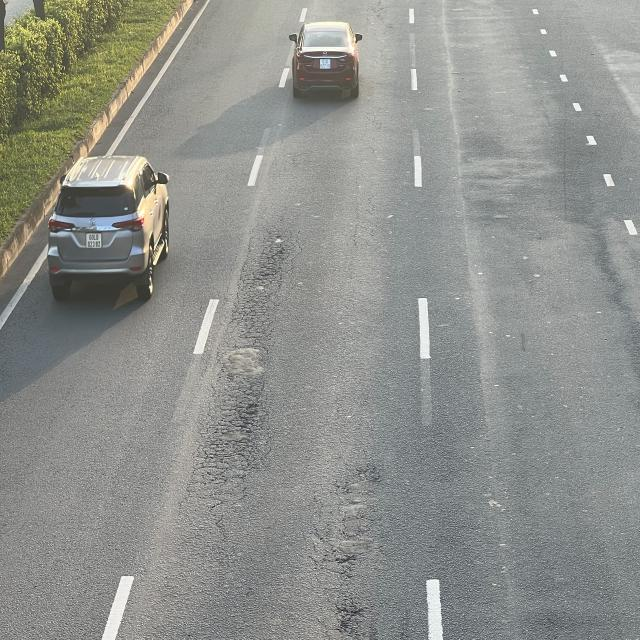car: (49, 152, 174, 300), (290, 20, 365, 101)
